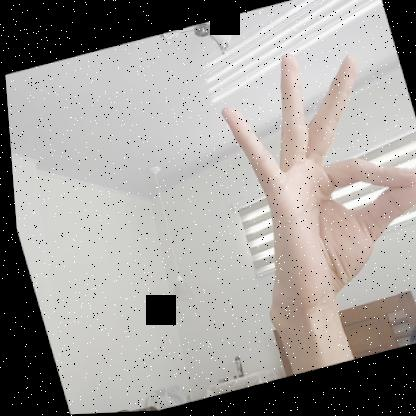F: (202, 25, 415, 324)
